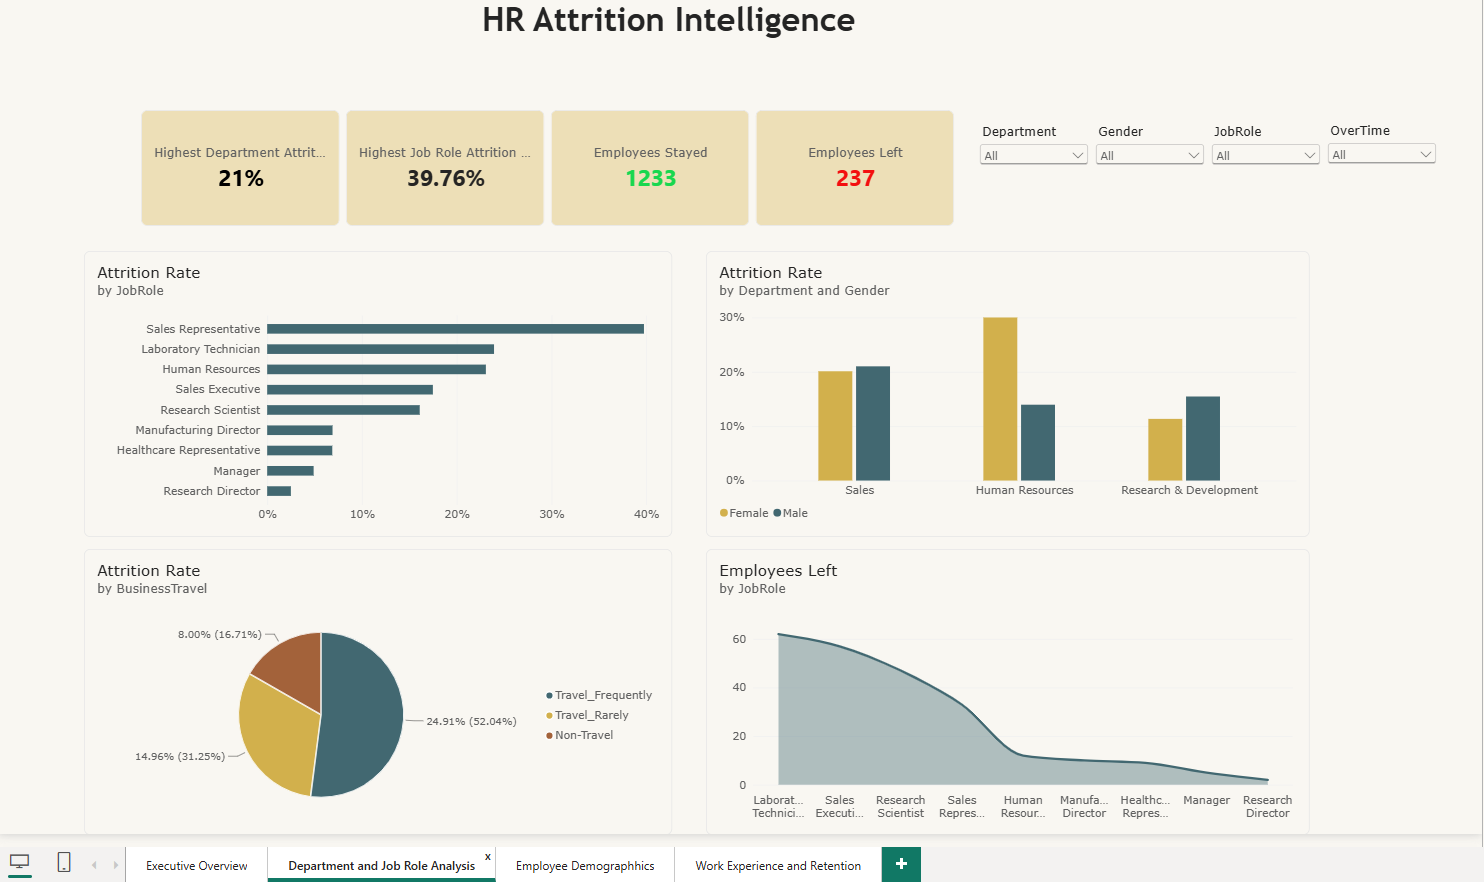

What the dashboard file says about the page in this screenshot:
{"tool":"powerbi","page":{"name":"Department and  Job Role Analysis","canvas":[1920,1080],"ordinal":1},"visuals":[{"type":"cardVisual","fields":{"Data":["Employees.Highest Department Attrition Rate","Employees.Highest Job Role Attrition Rate","Employees.Employees Stayed","Employees.Employees Left"]},"box":[184.9,141.9,1052.9,150],"z":0,"group":"g1"},{"type":"group","id":"g1","title":"Group 1","box":[184.9,141.9,1052.9,150],"z":0},{"type":"group","id":"g2","title":"Group 1","box":[1265.7,158.6,600,58.6],"z":0,"group":"g3"},{"type":"slicer","fields":{"Values":["Employees.Gender"]},"box":[1415.7,160,150,57.1],"z":1000,"group":"g3"},{"type":"clusteredBarChart","fields":{"Category":["Employees.JobRole"],"Y":["Employees.Attrition Rate"]},"box":[111.4,324.3,761.4,370],"z":1000},{"type":"areaChart","fields":{"Category":["Employees.JobRole"],"Y":["Employees.Employees Left"]},"box":[915.7,710,781.4,370],"z":2000},{"type":"clusteredColumnChart","fields":{"Category":["Employees.Department"],"Series":["Employees.Gender"],"Y":["Employees.Attrition Rate"]},"box":[915.7,324.3,781.4,370],"z":3000},{"type":"pieChart","fields":{"Category":["Employees.BusinessTravel"],"Y":["Employees.Attrition Rate"]},"box":[111.4,710,761.4,370],"z":4000},{"type":"group","id":"g3","title":"Group 2","box":[1265.7,158.6,600,58.6],"z":5000},{"type":"slicer","fields":{"Values":["Employees.Department"]},"box":[1265.7,160,150,57.1],"z":5000,"group":"g2"},{"type":"textbox","box":[625.7,0,492.9,57.1],"z":6000},{"type":"slicer","fields":{"Values":["Employees.JobRole"]},"box":[1565.7,160,150,57.1],"z":7000,"group":"g2"},{"type":"slicer","fields":{"Values":["Employees.OverTime"]},"box":[1715.7,158.6,150,57.1],"z":8000,"group":"g2"}]}

Visuals, with their boxes on the page's 1920x1080 design canvas (x1, y1, x2, y2). These are canvas units, not pixel positions in the 1484x882 screenshot, which may show the page scaled, cropped or inside an application window:
cardVisual - Employees.Highest Department Attrition Rate x Employees.Highest Job Role Attrition Rate: 185 142 1238 292
"Group 1" group: 185 142 1238 292
"Group 1" group: 1266 159 1866 217
slicer - Employees.Gender: 1416 160 1566 217
clusteredBarChart - Employees.JobRole x Employees.Attrition Rate: 111 324 873 694
areaChart - Employees.JobRole x Employees.Employees Left: 916 710 1697 1080
clusteredColumnChart - Employees.Department x Employees.Gender: 916 324 1697 694
pieChart - Employees.BusinessTravel x Employees.Attrition Rate: 111 710 873 1080
"Group 2" group: 1266 159 1866 217
slicer - Employees.Department: 1266 160 1416 217
textbox: 626 0 1119 57
slicer - Employees.JobRole: 1566 160 1716 217
slicer - Employees.OverTime: 1716 159 1866 216
